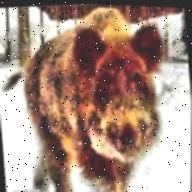boar: (15, 1, 172, 192)
